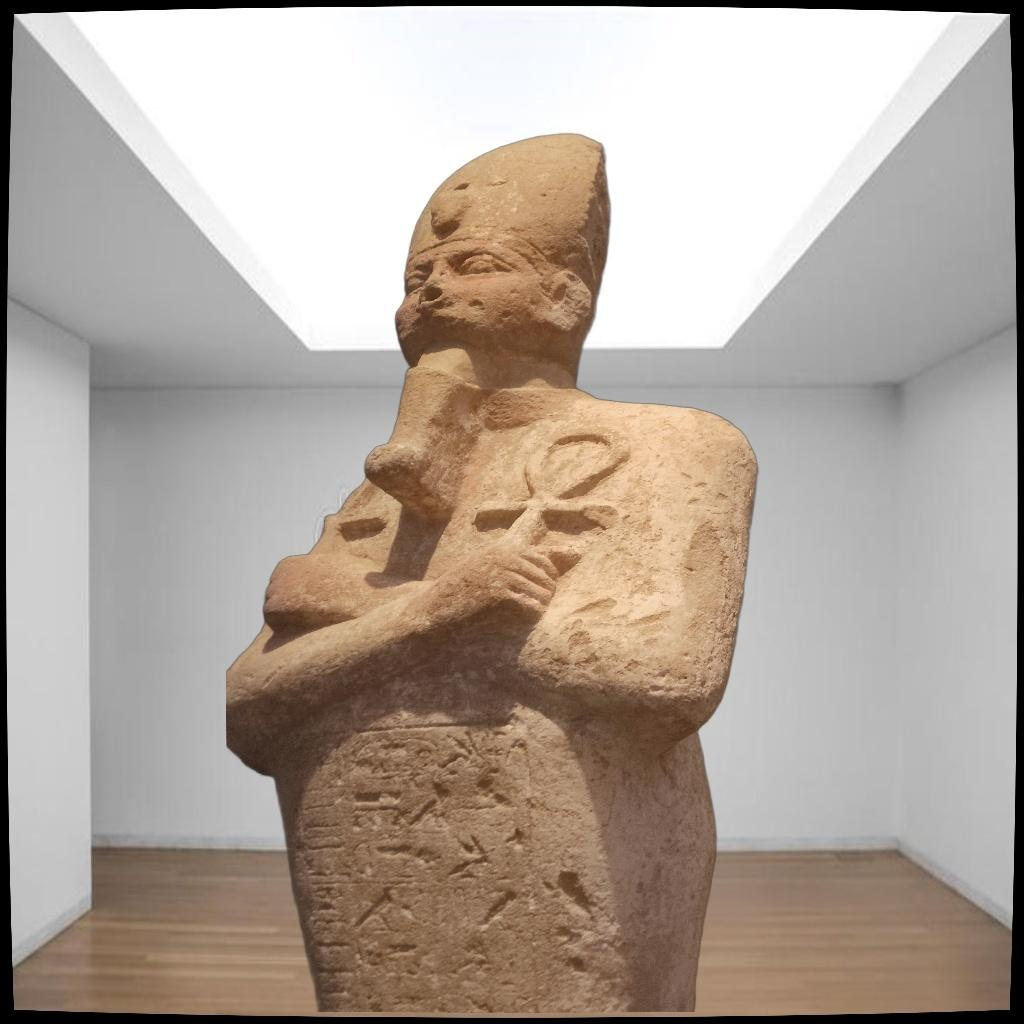Statue of Mentuhotep II: (226, 132, 775, 1013)
